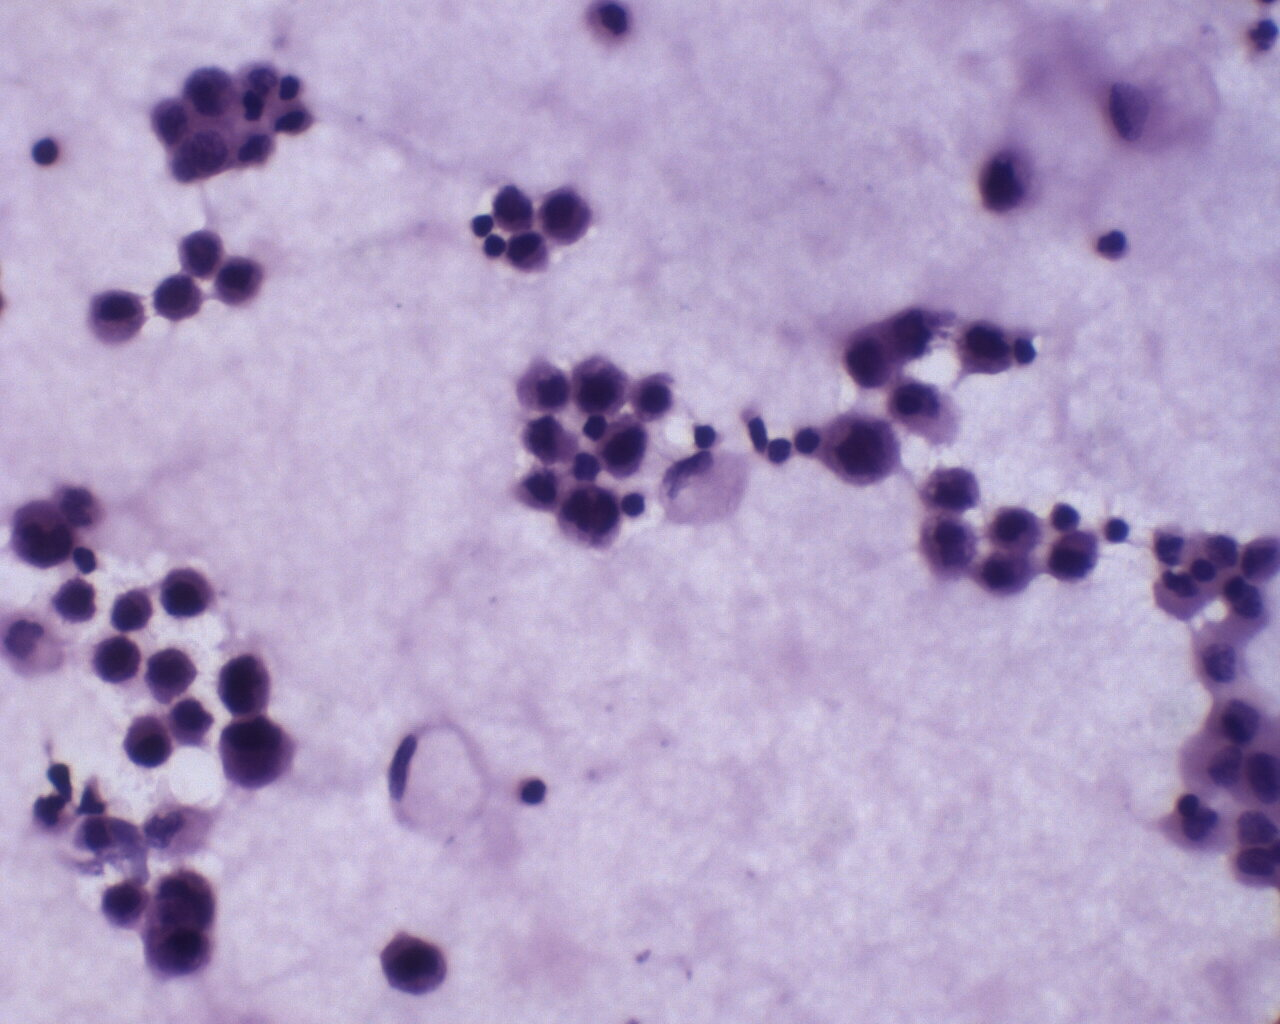ab: (208, 719, 296, 794), (821, 406, 899, 490), (374, 926, 450, 1004), (144, 864, 225, 930), (839, 320, 910, 393), (7, 497, 78, 569), (211, 647, 278, 719), (144, 924, 215, 987), (177, 59, 240, 129), (535, 178, 598, 248), (559, 486, 625, 550), (917, 513, 975, 585), (567, 351, 631, 416), (171, 126, 235, 191), (154, 557, 217, 620), (921, 464, 988, 518), (955, 317, 1013, 379), (145, 647, 204, 707), (599, 413, 650, 479), (211, 252, 270, 309), (98, 876, 152, 936), (1049, 529, 1103, 586), (629, 370, 681, 422), (87, 636, 141, 686), (154, 270, 204, 322), (173, 225, 222, 279), (50, 575, 101, 625), (986, 502, 1039, 550), (505, 232, 553, 277)
histo: (383, 716, 501, 844), (1106, 40, 1227, 161), (660, 449, 750, 536)
lymph: (26, 134, 67, 172), (1101, 515, 1136, 552), (516, 775, 550, 808)
meso: (88, 286, 149, 349)
